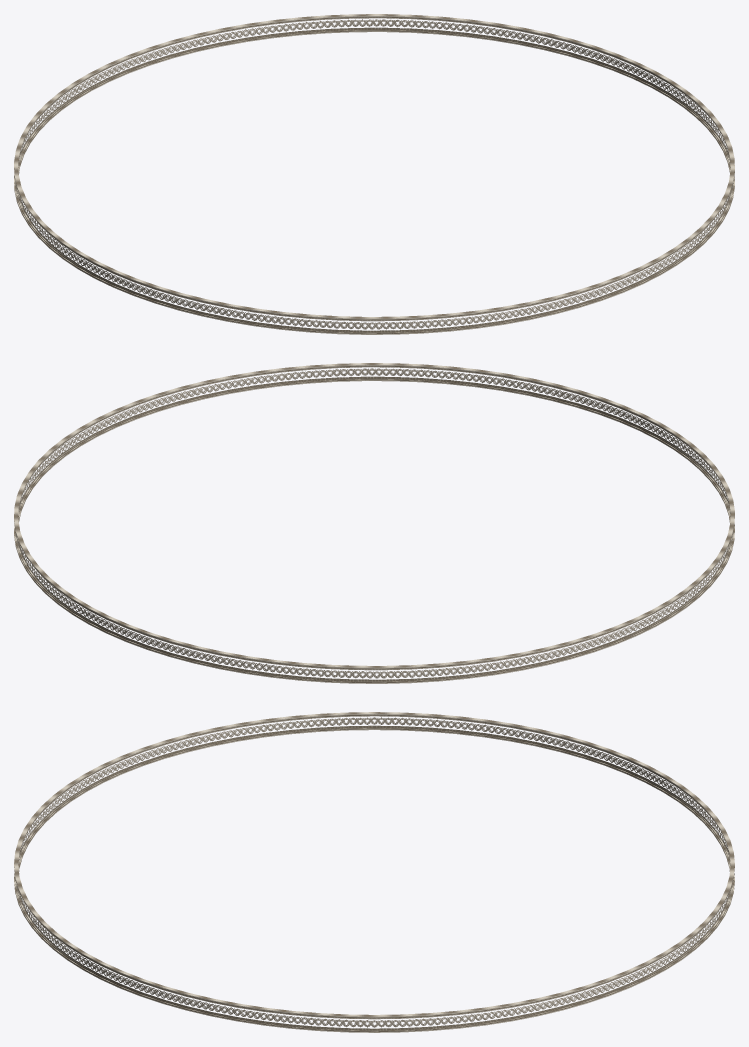
Rendered from ring_6.obj.
3 renders of one model, top to bottom at view 1: azimuth 30°, elevation 25°; view 2: azimuth 150°, elevation 25°; view 3: azimuth 270°, elevation 25°, orthographic.
Bounding box in the file's own units: 46.12 × 1.14 × 46.12.
